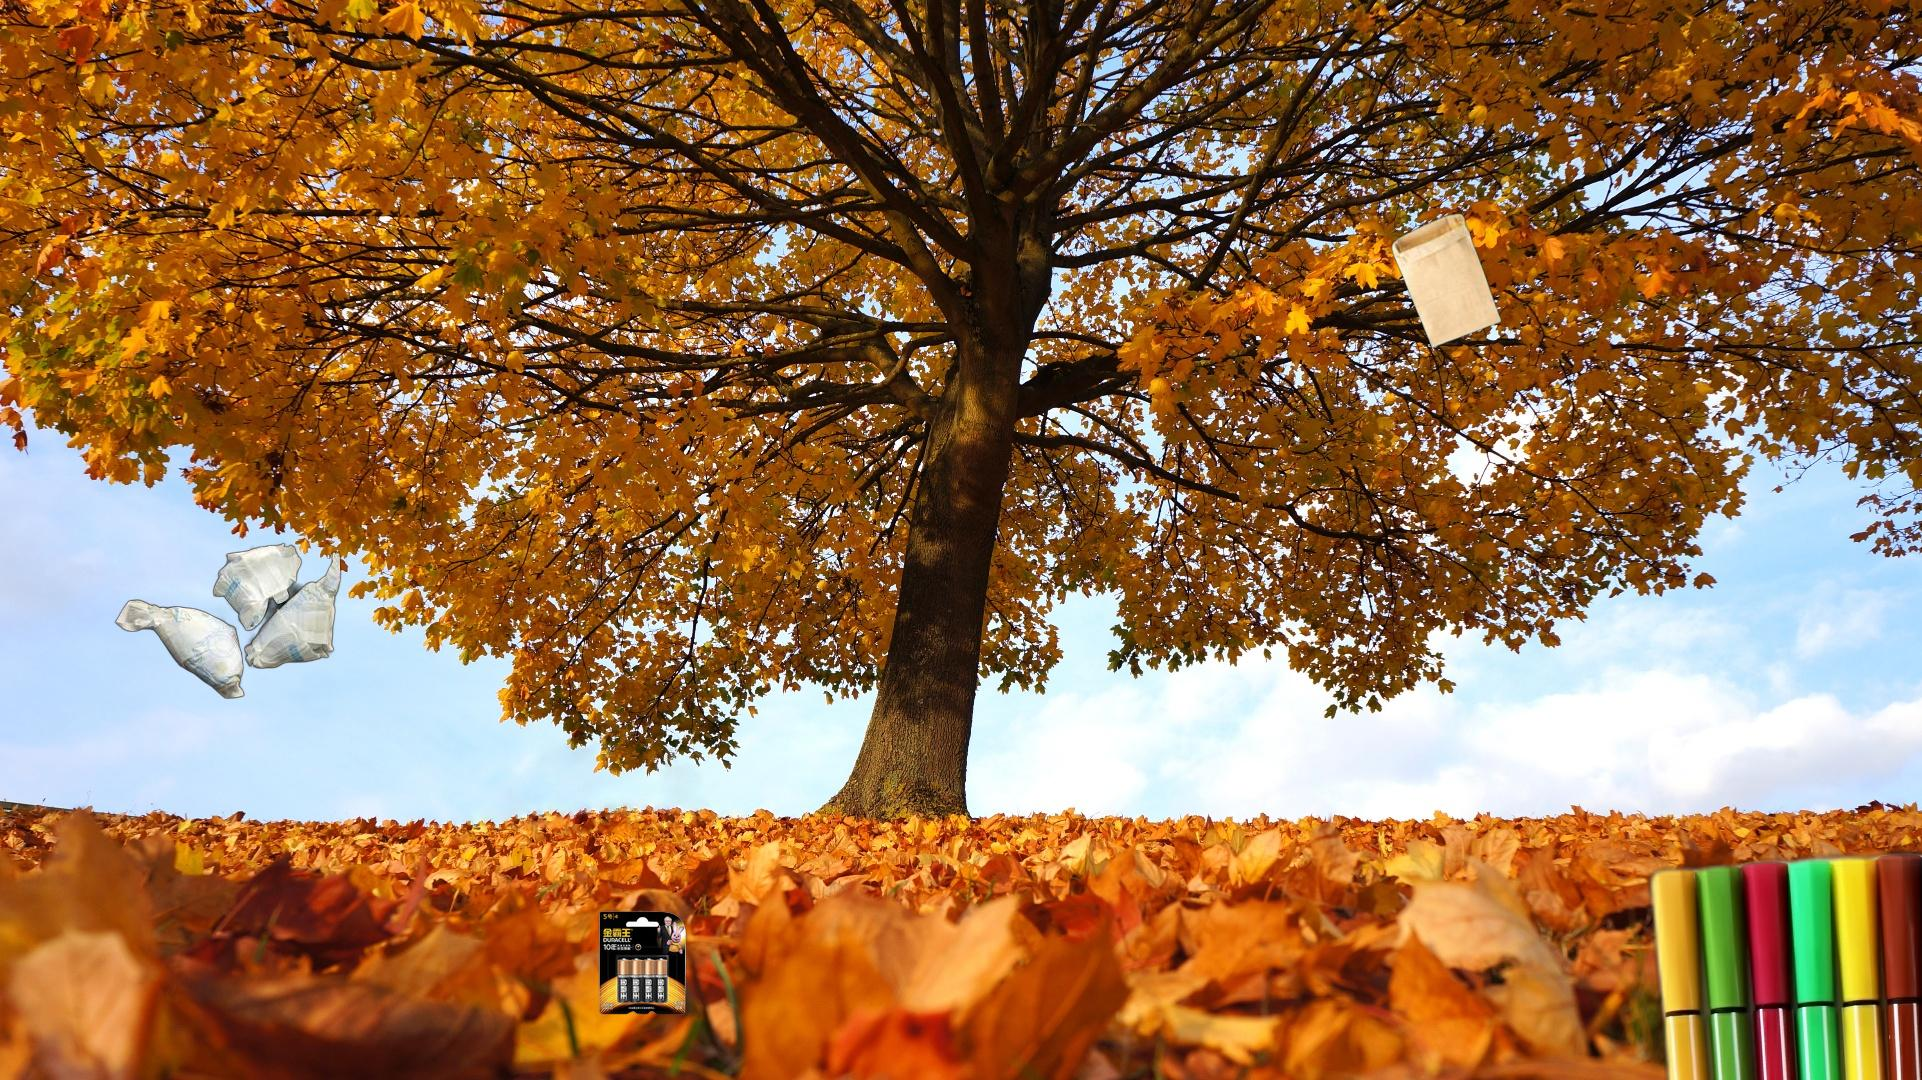battery: (595, 908, 689, 1017)
paper-bag: (1389, 210, 1504, 351)
penholder: (1638, 834, 1922, 1080)
trash: (114, 541, 345, 702)
trashbox-cardboard: (1919, 853, 1922, 1080)
